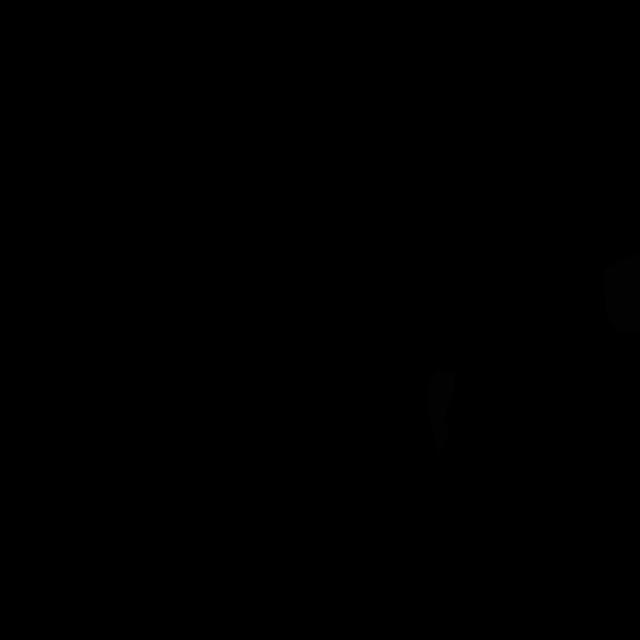cardboard: (604, 252, 640, 333), (428, 369, 455, 455)
